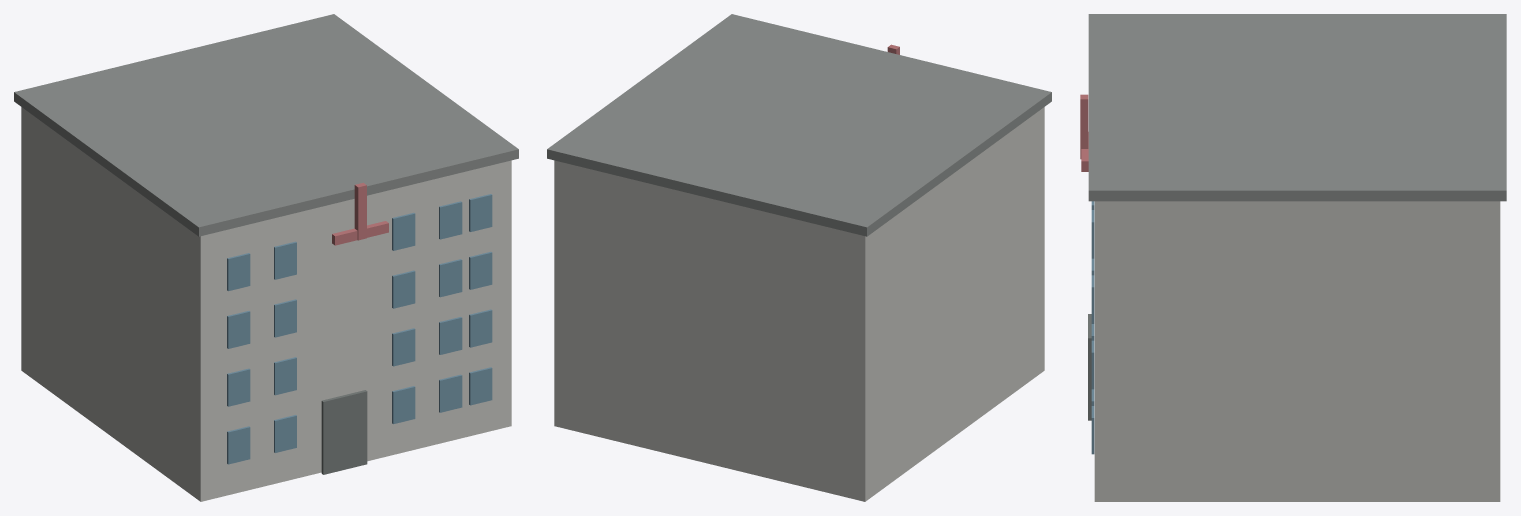
Rendered from hospital_3x3.glb.
3 renders of one model, left to right at view 1: azimuth 30°, elevation 25°; view 2: azimuth 150°, elevation 25°; view 3: azimuth 270°, elevation 25°, orthographic. The views are drawn at different scales.
Parts seen in each view (by area): view 1: hospital_3x3; view 2: hospital_3x3; view 3: hospital_3x3.
Part boxes in pixels (x1,y1,x2,y2): hospital_3x3: (14,14,518,501); hospital_3x3: (547,14,1051,501); hospital_3x3: (1080,14,1506,501).
Size of the model in its own units: 5.74 by 4.84 by 5.86.
